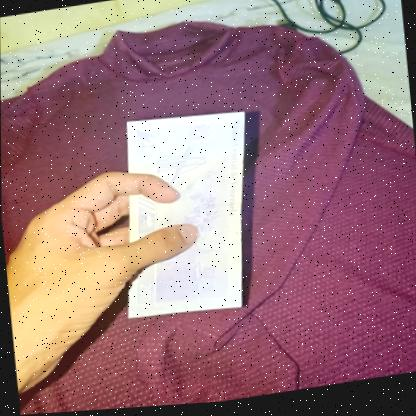two_hundred-back-vef: (109, 105, 263, 327)
